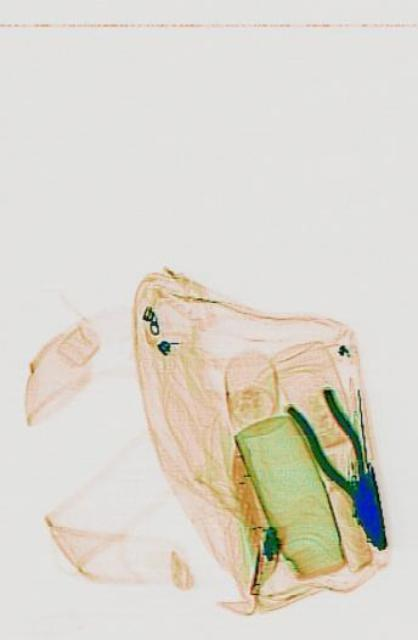Pliers: (282, 369, 401, 567)
